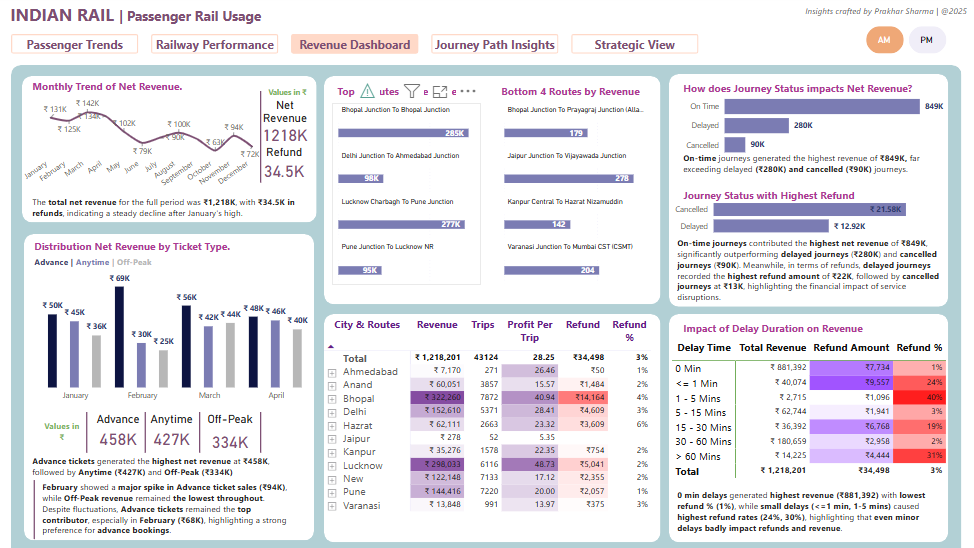

The page's visual inventory and layout, read from the dashboard file:
{"tool":"powerbi","page":{"name":"Revenue Dashboard","canvas":[1536,864],"ordinal":2},"visuals":[{"type":"shape","box":[20,103.3,1493.3,760],"z":0},{"type":"shape","box":[512.9,494.3,528.6,358.6],"z":1000},{"type":"textbox","box":[13.7,0.7,900,60.5],"z":2000},{"type":"shape","box":[37.1,121.4,462.9,230],"z":3000},{"type":"lineChart","fields":{"Y":["Sum(Train Dataset.Price)"],"Category":["Train Dataset.Date of Purchase.Variation.Date Hierarchy.Month"]},"box":[32,120,384,192],"z":4000},{"type":"textbox","box":[49.2,121.5,349.2,52.3],"z":5000},{"type":"kpi","title":"Net Revenue","fields":{"Indicator":["Sum(Train Dataset.Price)"],"TrendLine":["Train Dataset.Date of Purchase.Variation.Date Hierarchy.Year"]},"box":[402.9,155.7,97.1,72.9],"z":6000},{"type":"kpi","title":"Refund","fields":{"TrendLine":["Train Dataset.Refund Request"],"Indicator":["Sum(Train Dataset.Price)"]},"box":[402.9,228.6,94.3,61.4],"z":7000},{"type":"textbox","box":[48,304,448,48],"z":8000},{"type":"shape","box":[400,144,24,144],"z":9000},{"type":"textbox","box":[420,131.4,77.1,55.7],"z":10000},{"type":"shape","box":[41.4,368.6,455.7,481.4],"z":11000},{"type":"textbox","box":[52.5,372.5,348.8,52.5],"z":12000},{"type":"textbox","box":[48,712,432,48],"z":13000},{"type":"clusteredColumnChart","fields":{"Category":["Train Dataset.Date of Purchase.Variation.Date Hierarchy.Month"],"Y":["Sum(Train Dataset.Price)"],"Series":["Train Dataset.Ticket Type"]},"box":[32,416,496,224],"z":14000},{"type":"textbox","box":[52.2,398.9,347.8,33.3],"z":15000},{"type":"kpi","title":"Advance","fields":{"Indicator":["Sum(Train Dataset.Price)"],"TrendLine":["Train Dataset.Ticket Type"]},"box":[144,648,88,64],"z":16000},{"type":"shape","box":[120,648,40,64],"z":17000},{"type":"textbox","box":[64,656,72,48],"z":18000},{"type":"kpi","title":"Anytime","fields":{"Indicator":["Sum(Train Dataset.Price)"],"TrendLine":["Train Dataset.Ticket Type"]},"box":[224,648,96,64],"z":19000},{"type":"textbox","box":[64,752,400,96],"z":20000},{"type":"kpi","title":"Off-Peak","fields":{"Indicator":["Sum(Train Dataset.Price)"],"TrendLine":["Train Dataset.Ticket Type"]},"box":[320,648,88,72],"z":21000},{"type":"shape","box":[208,648,48,64],"z":22000},{"type":"shape","box":[304,648,24,64],"z":23000},{"type":"shape","box":[33,755,48,93],"z":24000},{"type":"shape","box":[1054.3,117.1,438.6,365.7],"z":25000},{"type":"textbox","box":[1071.4,124.3,400,61.4],"z":26000},{"type":"clusteredBarChart","fields":{"Category":["Train Dataset.Journey Status"],"Y":["Sum(Train Dataset.Price)"]},"box":[1071.4,131.4,420,127.1],"z":27000},{"type":"textbox","box":[1071.4,235.7,415.7,44.3],"z":28000},{"type":"clusteredBarChart","fields":{"Category":["Train Dataset.Journey Status"],"Y":["Train Dataset.Refund Amount"]},"box":[1054.3,284.3,432.9,111.4],"z":29000},{"type":"textbox","box":[1071.4,292.9,400,62.9],"z":30000},{"type":"textbox","box":[1061.4,368.6,441.4,114.3],"z":31000},{"type":"shape","box":[1054.3,494.3,438.6,358.6],"z":32000},{"type":"textbox","box":[1071.4,501.4,405.7,32.9],"z":33000},{"type":"pivotTable","fields":{"Rows":["Train Dataset.Delay Group"],"Values":["Train Dataset.Total Revenue","Train Dataset.Refund Amount","Train Dataset.Refund %"]},"box":[1054.3,530,441.4,234.3],"z":34000},{"type":"textbox","box":[1061.4,764.3,431.4,84.3],"z":35000},{"type":"shape","box":[512.9,121.4,528.6,358.6],"z":36000},{"type":"textbox","box":[528.6,128.6,400,61.4],"z":37000},{"type":"clusteredBarChart","fields":{"Y":["Sum(Train Dataset.Price)"],"Rows":["Train Dataset.Route"]},"box":[524,164,235,286],"z":38000},{"type":"textbox","box":[785.6,128.6,400,61.4],"z":39000},{"type":"clusteredBarChart","fields":{"Y":["Sum(Train Dataset.Price)"],"Rows":["Train Dataset.Route"]},"box":[786,164,239,286],"z":40000},{"type":"pivotTable","fields":{"Rows":["Train Dataset.City","Train Dataset.Route"],"Values":["Train Dataset.Total Revenue","CountNonNull(Train Dataset.Route)","Avg(Train Dataset.Price)","Train Dataset.Refund Amount","Train Dataset.Refund %"]},"box":[512.9,494.3,528.6,362.9],"z":41000},{"type":"advancedSlicerVisual","fields":{"Values":["Train Dataset.Last Characters"]},"box":[1358.2,38,136.5,53.6],"z":42000},{"type":"pageNavigator","box":[20,55.7,1080,31.4],"z":43000},{"type":"textbox","box":[1263.2,5.2,269.6,46.7],"z":44000},{"type":"shape","box":[400,648,24,64],"z":45000}]}

Visuals, with their boxes in screenshot pixels (x1, y1, x2, y2), scaled from the page's 1536x864 canvas onto the 974x548 screenshot:
shape: (13, 66, 960, 547)
shape: (325, 314, 660, 541)
textbox: (9, 0, 579, 39)
shape: (24, 77, 317, 223)
lineChart - Sum(Train Dataset.Price) x Train Dataset.Date of Purchase.Variation.Date Hierarchy.Month: (20, 76, 264, 198)
textbox: (31, 77, 253, 110)
"Net Revenue" kpi: (255, 99, 317, 145)
"Refund" kpi: (255, 145, 315, 184)
textbox: (30, 193, 315, 223)
shape: (254, 91, 269, 183)
textbox: (266, 83, 315, 119)
shape: (26, 234, 315, 539)
textbox: (33, 236, 254, 270)
textbox: (30, 452, 304, 482)
clusteredColumnChart - Train Dataset.Date of Purchase.Variation.Date Hierarchy.Month x Sum(Train Dataset.Price): (20, 264, 335, 406)
textbox: (33, 253, 254, 274)
"Advance" kpi: (91, 411, 147, 452)
shape: (76, 411, 101, 452)
textbox: (41, 416, 86, 447)
"Anytime" kpi: (142, 411, 203, 452)
textbox: (41, 477, 294, 538)
"Off-Peak" kpi: (203, 411, 259, 457)
shape: (132, 411, 162, 452)
shape: (193, 411, 208, 452)
shape: (21, 479, 51, 538)
shape: (669, 74, 947, 306)
textbox: (679, 79, 933, 118)
clusteredBarChart - Train Dataset.Journey Status x Sum(Train Dataset.Price): (679, 83, 946, 164)
textbox: (679, 149, 943, 178)
clusteredBarChart - Train Dataset.Journey Status x Train Dataset.Refund Amount: (669, 180, 943, 251)
textbox: (679, 186, 933, 226)
textbox: (673, 234, 953, 306)
shape: (669, 314, 947, 541)
textbox: (679, 318, 937, 339)
pivotTable - Train Dataset.Delay Group x Train Dataset.Total Revenue: (669, 336, 948, 485)
textbox: (673, 485, 947, 538)
shape: (325, 77, 660, 304)
textbox: (335, 82, 589, 121)
clusteredBarChart - Sum(Train Dataset.Price) x Train Dataset.Route: (332, 104, 481, 285)
textbox: (498, 82, 752, 121)
clusteredBarChart - Sum(Train Dataset.Price) x Train Dataset.Route: (498, 104, 650, 285)
pivotTable - Train Dataset.City x Train Dataset.Route: (325, 314, 660, 544)
advancedSlicerVisual - Train Dataset.Last Characters: (861, 24, 948, 58)
pageNavigator: (13, 35, 698, 55)
textbox: (801, 3, 972, 33)
shape: (254, 411, 269, 452)
